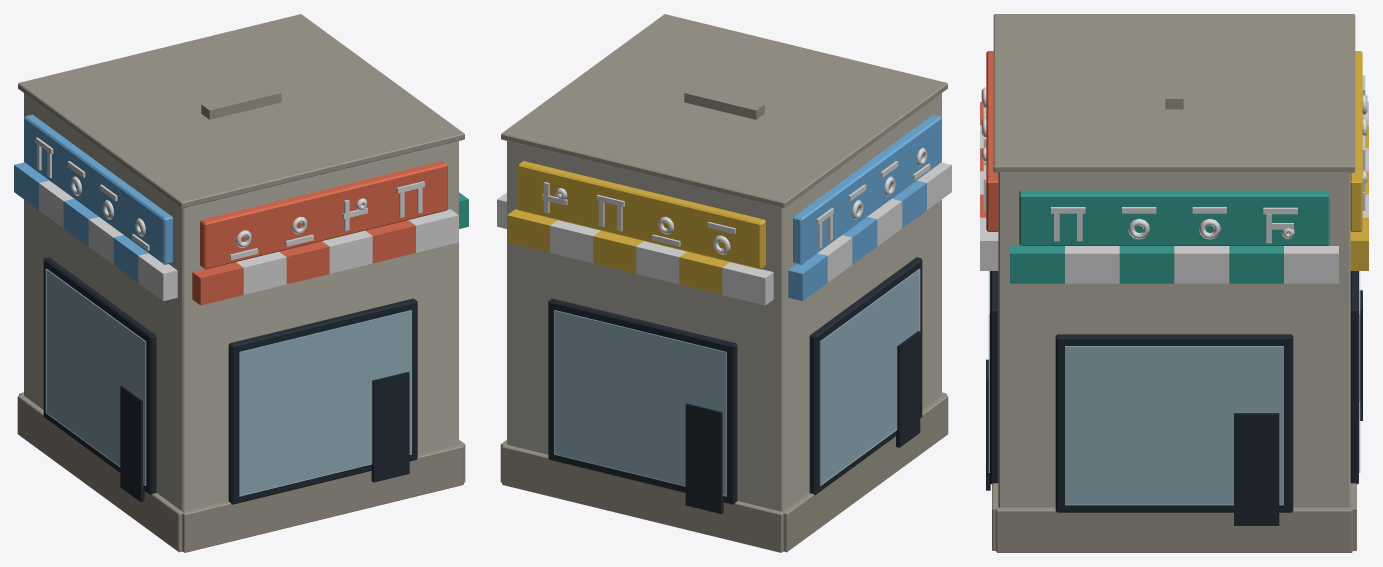
Rendered from wall_a.fbx.
3 renders of one model, left to right at view 1: azimuth 30°, elevation 25°; view 2: azimuth 150°, elevation 25°; view 3: azimuth 270°, elevation 25°, orthographic. The views are drawn at different scales.
Visible parts, largest first — view 1: wall_a; view 2: wall_a; view 3: wall_a.
Part boxes in pixels (x1,y1,x2,y2): wall_a: (14,14,468,552); wall_a: (497,14,951,552); wall_a: (980,14,1368,552).
Bounding box in the file's own units: 4 × 4.5 × 4.
